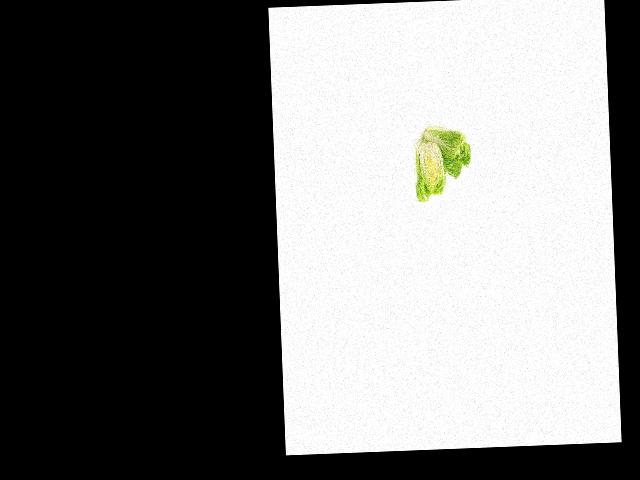lettuce: (419, 122, 474, 183)
